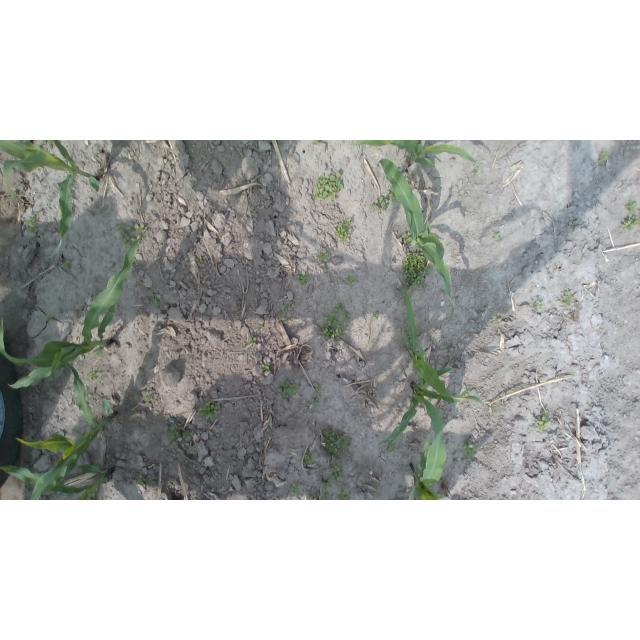Maize: (1, 237, 142, 388), (378, 367, 496, 490), (16, 362, 116, 499), (378, 158, 455, 317), (0, 140, 100, 258), (401, 284, 472, 404), (0, 464, 114, 501), (348, 140, 477, 168), (409, 434, 442, 500)
Weeds: (404, 251, 433, 287), (313, 171, 344, 201), (322, 426, 352, 454), (320, 313, 349, 339), (117, 222, 148, 245), (196, 401, 221, 420), (277, 379, 300, 397), (333, 301, 351, 324), (336, 218, 353, 242), (535, 411, 550, 432), (371, 196, 390, 211), (332, 465, 345, 485), (623, 217, 640, 232), (168, 422, 180, 443), (559, 292, 575, 307), (462, 443, 477, 459), (25, 216, 39, 233), (295, 272, 311, 285), (302, 453, 316, 467), (288, 484, 304, 496), (306, 492, 328, 500), (320, 476, 332, 489), (149, 291, 160, 305), (138, 475, 153, 485), (599, 147, 609, 162), (625, 200, 637, 212), (337, 488, 349, 500), (345, 272, 356, 284), (387, 188, 397, 201), (316, 249, 329, 259), (401, 233, 412, 244), (87, 372, 99, 381), (247, 336, 257, 346), (387, 442, 396, 453), (312, 399, 321, 409), (182, 428, 191, 438), (534, 301, 544, 310), (494, 231, 502, 242), (261, 364, 270, 373), (371, 311, 379, 320), (472, 165, 480, 173), (399, 287, 405, 297), (196, 256, 203, 264), (44, 316, 52, 323), (64, 260, 71, 268), (284, 302, 292, 308), (509, 365, 518, 370), (315, 387, 322, 393), (145, 396, 152, 402), (313, 140, 320, 144), (278, 312, 283, 317), (47, 140, 53, 144), (495, 317, 499, 323), (284, 320, 288, 324)
